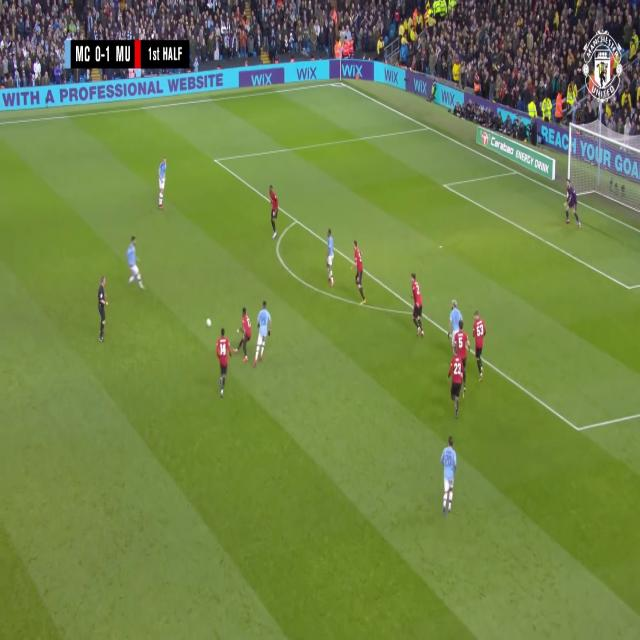ball: (205, 310, 213, 330)
team1: (215, 330, 234, 400), (472, 310, 487, 381), (409, 275, 424, 337), (354, 242, 367, 303), (237, 311, 252, 362), (268, 186, 278, 240)
team2: (440, 439, 458, 516), (126, 235, 147, 290), (255, 304, 273, 366), (323, 228, 337, 286), (448, 299, 466, 343), (157, 158, 166, 211)
